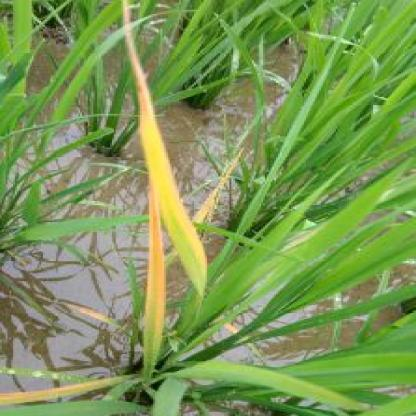Tungro: (124, 4, 207, 344)
